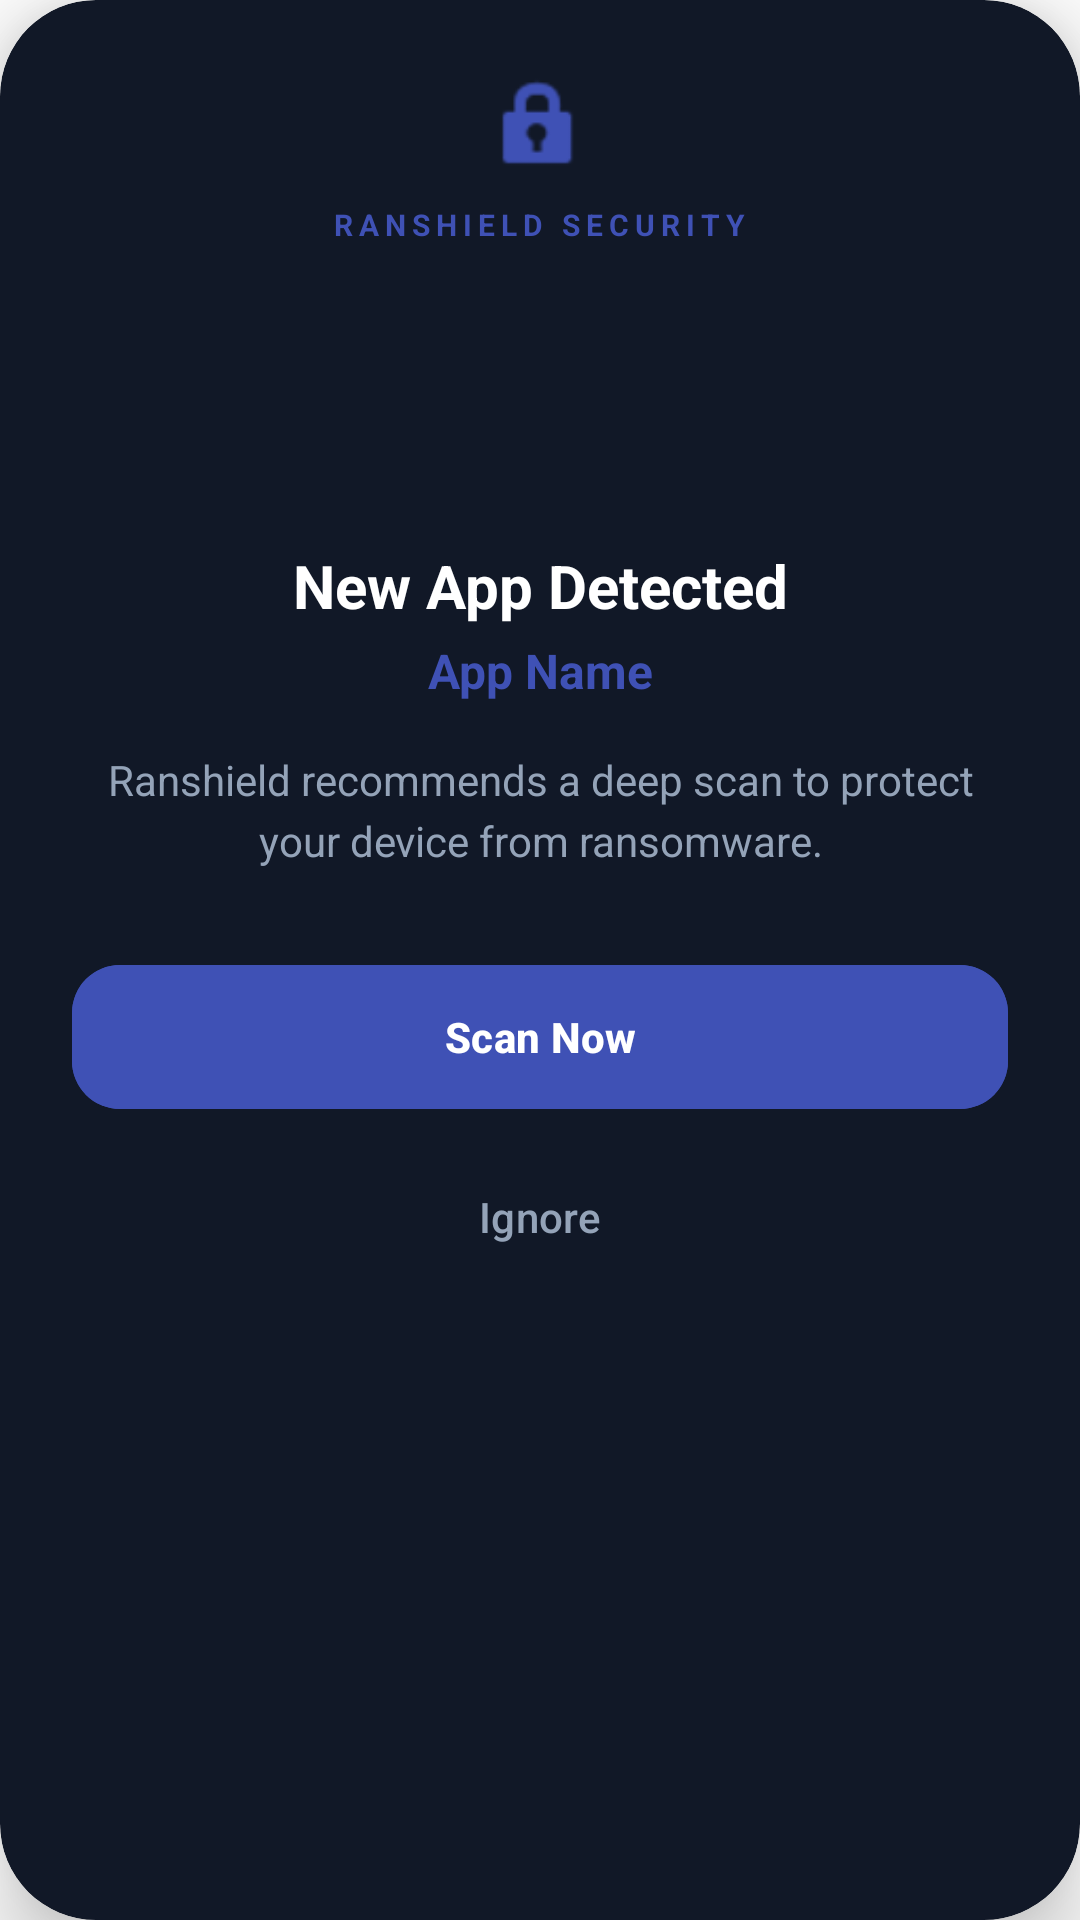

Screen size 1080 x 1920. Icon name, then its box in pixels as (x1, y1, x2, y2):
lock idle: (502, 82, 573, 164)
